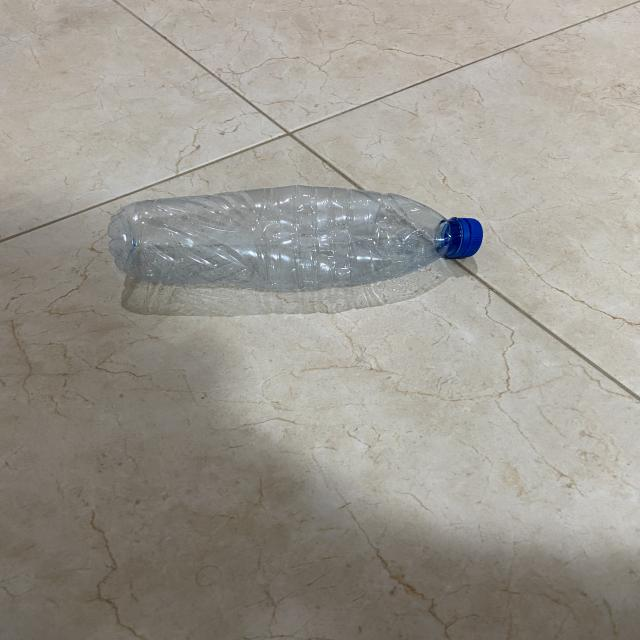plastic bottle: (92, 178, 498, 304)
